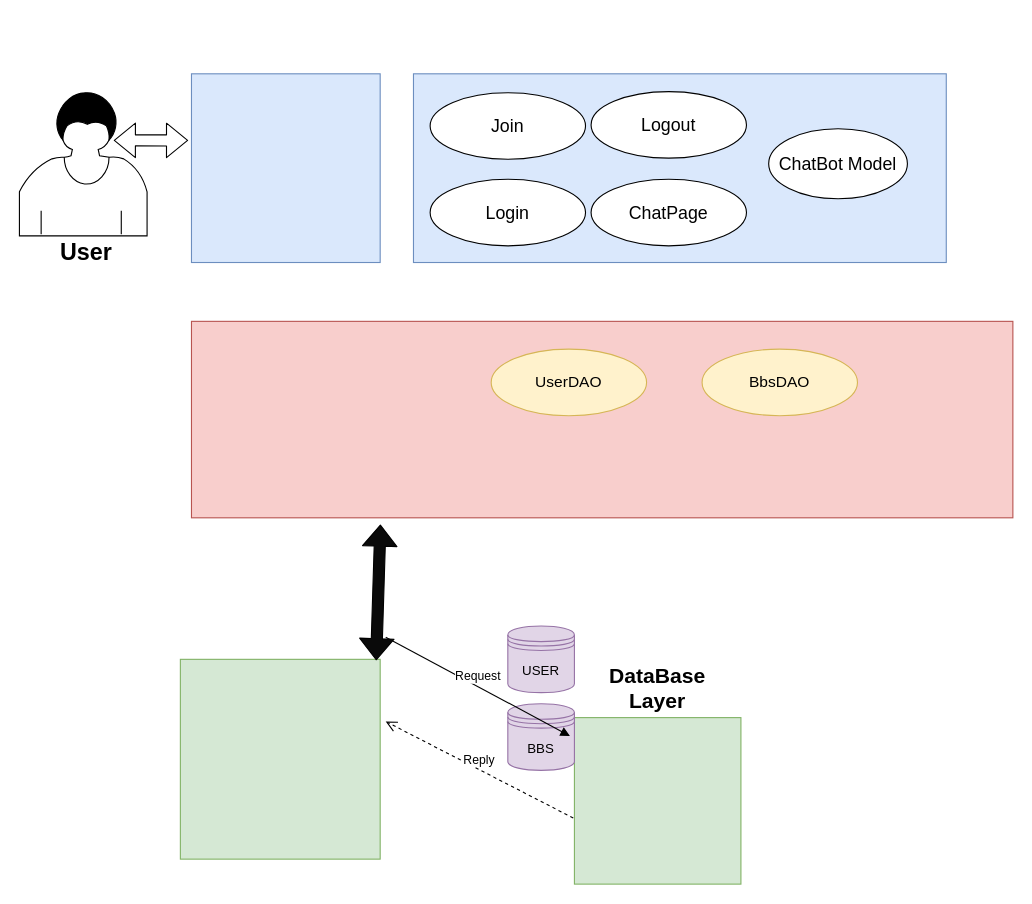
Image size: 1032x904. Some labels were removed from this diagram. The centre of each missing label's shape, as x and y in pixels:
DataBase Access Layer: the point at 279,758
Presentation Layer: the point at 285,168
